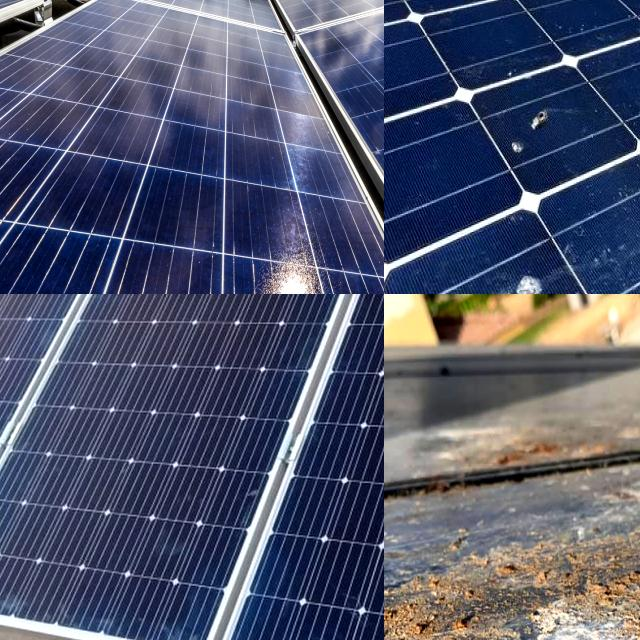bird: (496, 530, 640, 640), (384, 529, 468, 640), (488, 104, 581, 172), (457, 266, 564, 294), (619, 66, 640, 140), (445, 0, 524, 16), (442, 0, 527, 14)
crack: (6, 294, 384, 640), (193, 294, 384, 640), (121, 152, 227, 276), (212, 170, 313, 280), (35, 144, 144, 242), (291, 180, 384, 291), (68, 239, 223, 294), (216, 247, 355, 294), (58, 42, 140, 108)
